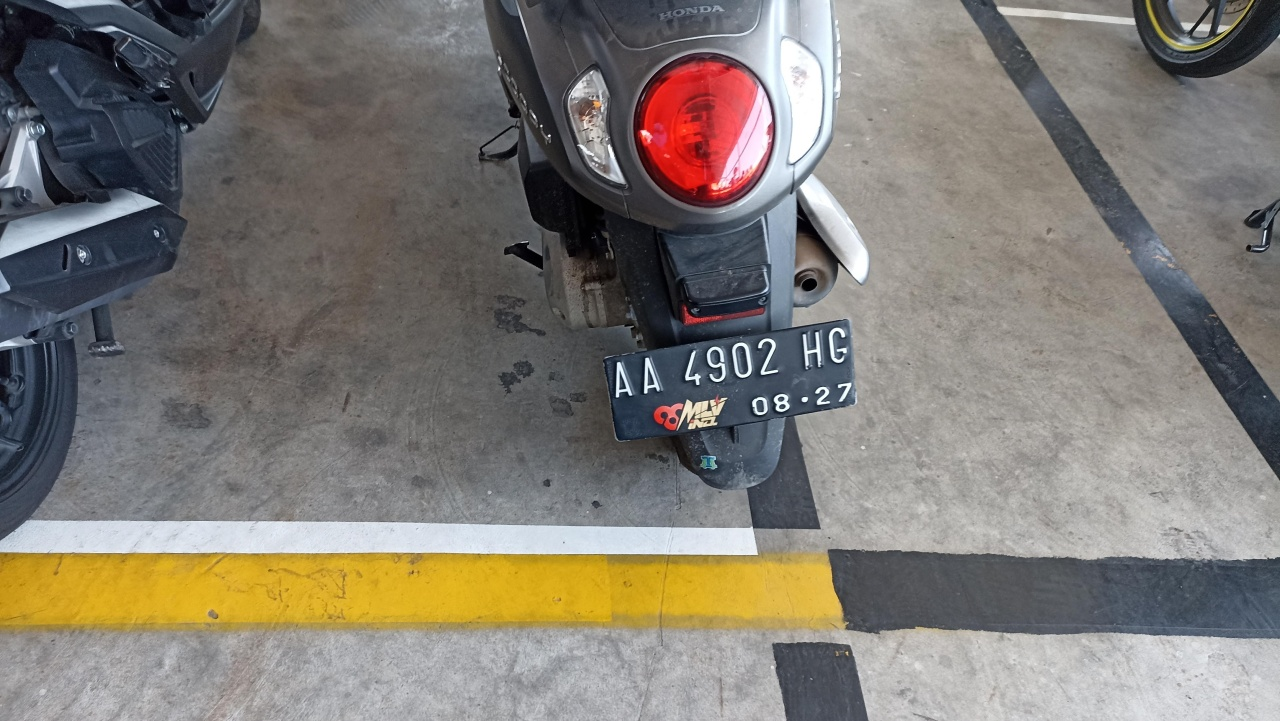plate: (604, 318, 857, 443)
